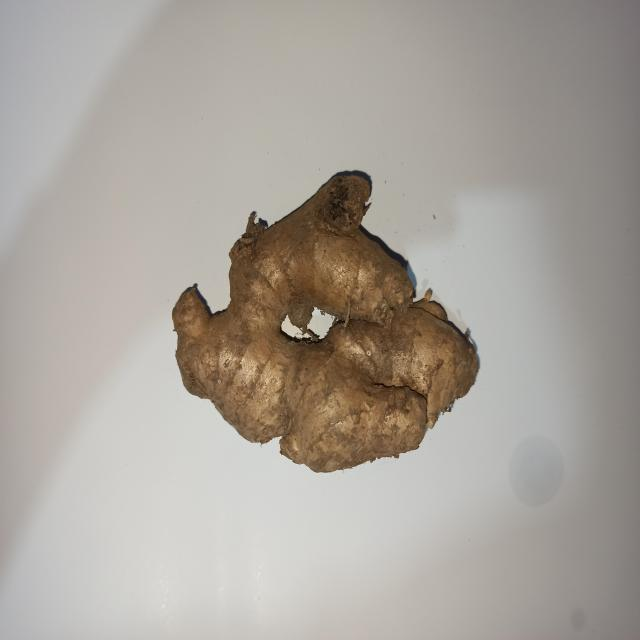ginger: (175, 180, 472, 470)
